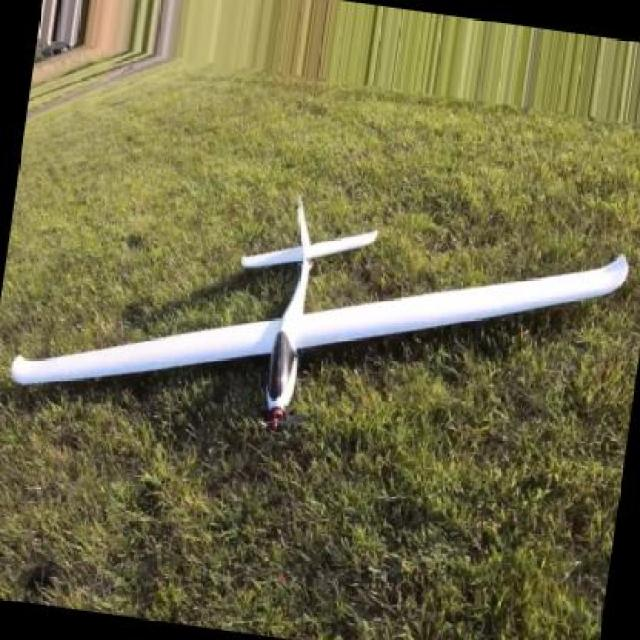iha: (9, 132, 619, 534)
